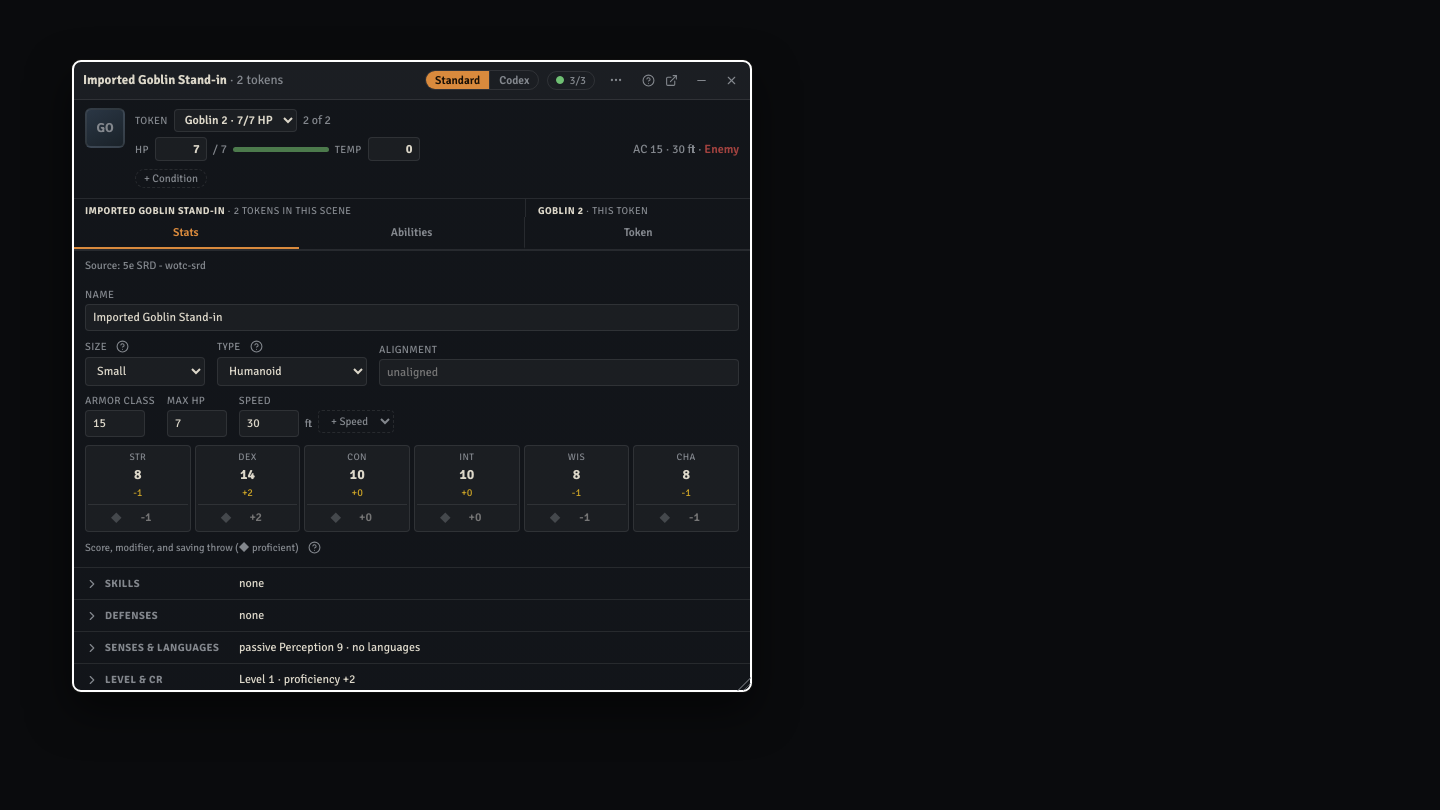
it: typing on the sheet › an emptied box writes nothing, and shows the value again when you leave it
Click the tab "Stats" at (186, 233), box [73, 217, 299, 249]
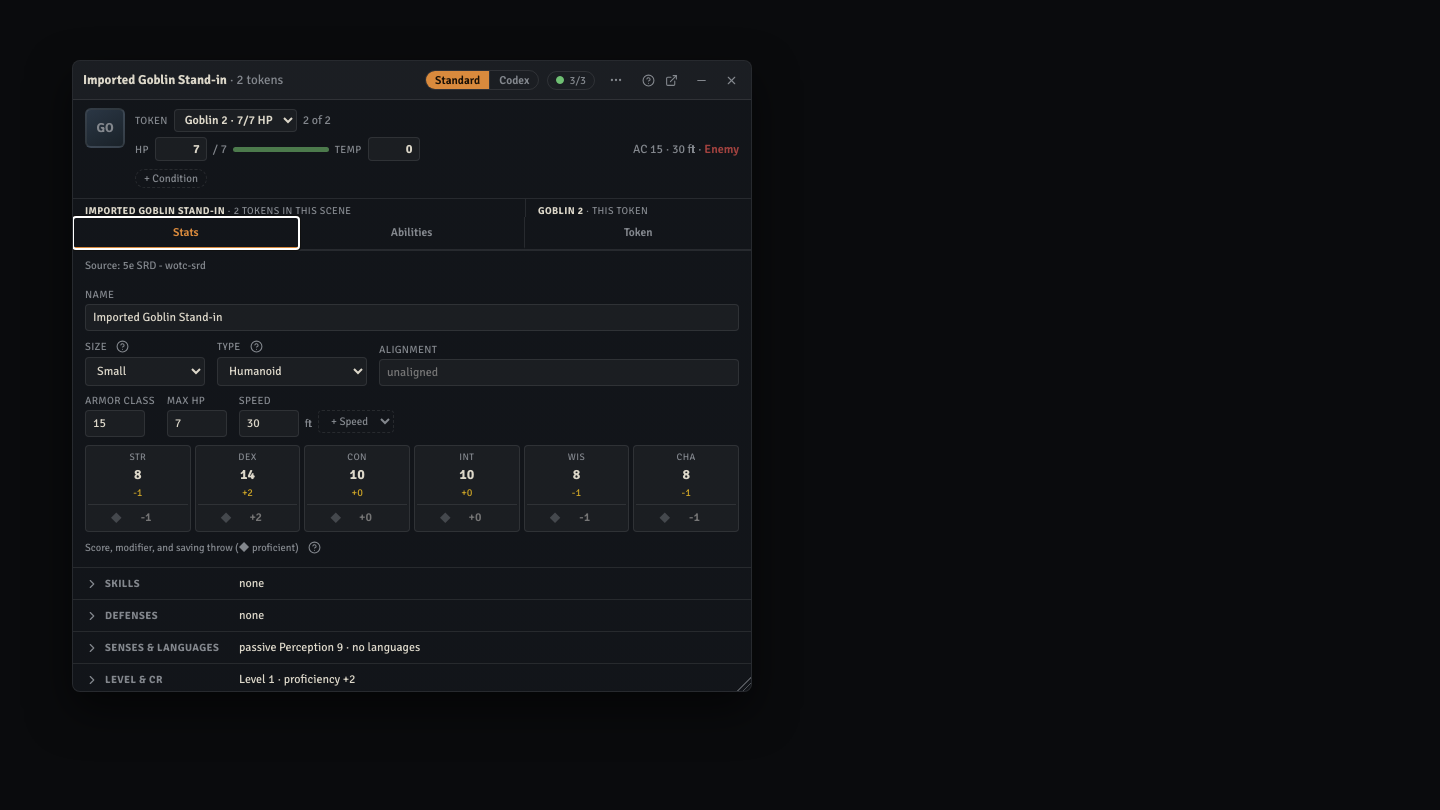
Clear the field labelled "Armor Class" at (115, 424), box [85, 410, 145, 437]
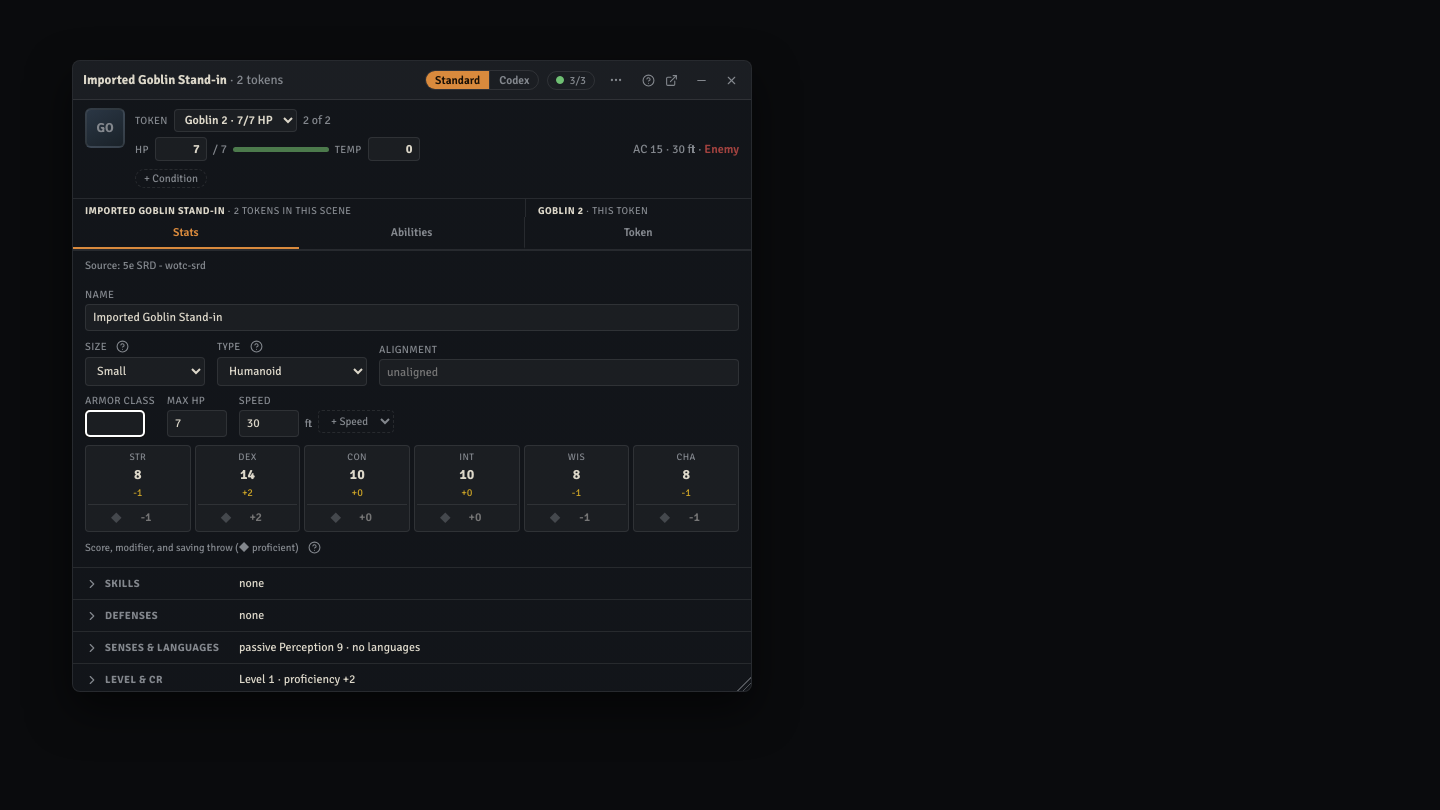
Press Tab
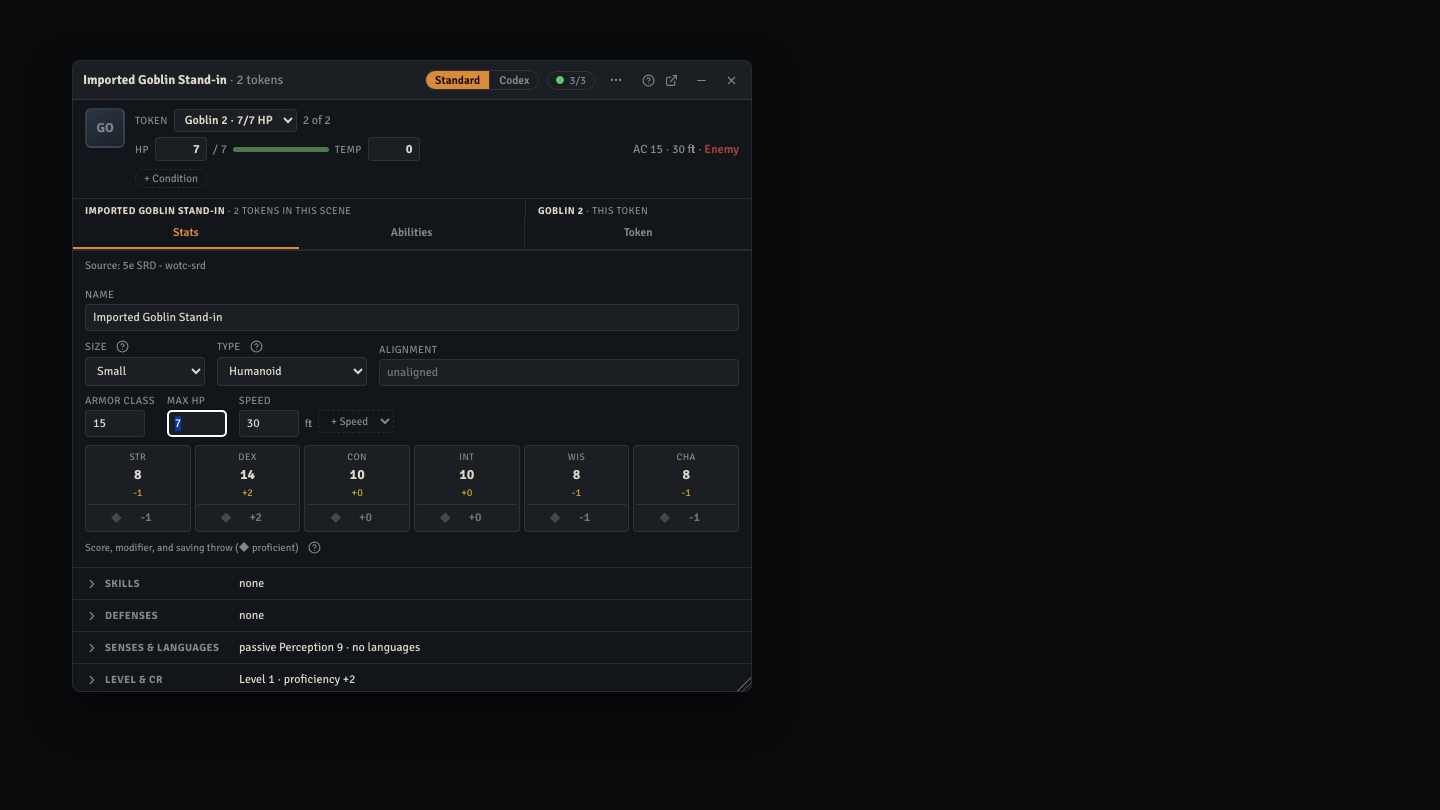
Now the field labelled "Armor Class" holds "15", box [85, 410, 145, 437]
